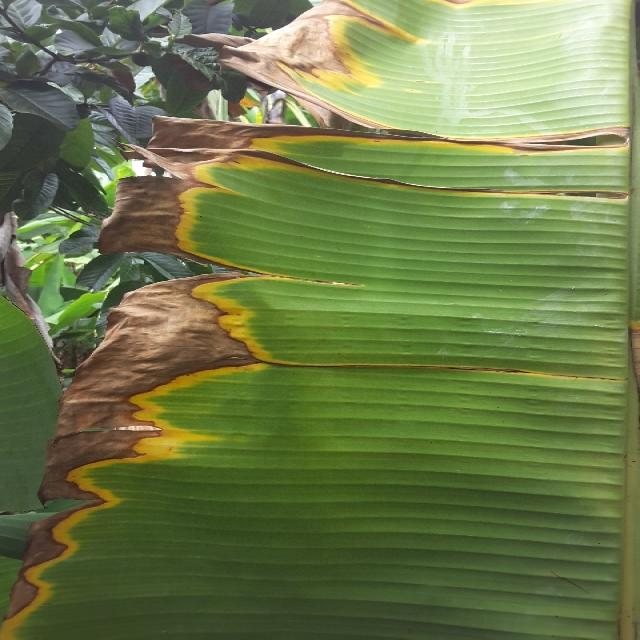Cordana: (0, 289, 614, 640), (68, 96, 640, 278), (184, 0, 640, 148)
